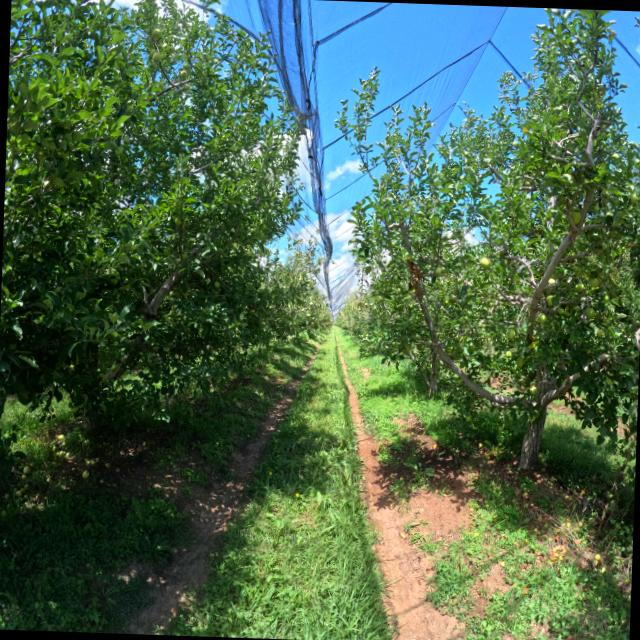-FireBlight-: (405, 257, 425, 295)
